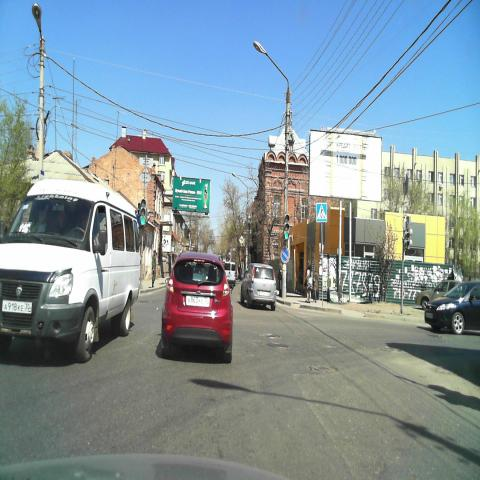3_28: (280, 245, 290, 263)
5_19_1: (316, 202, 328, 223)
